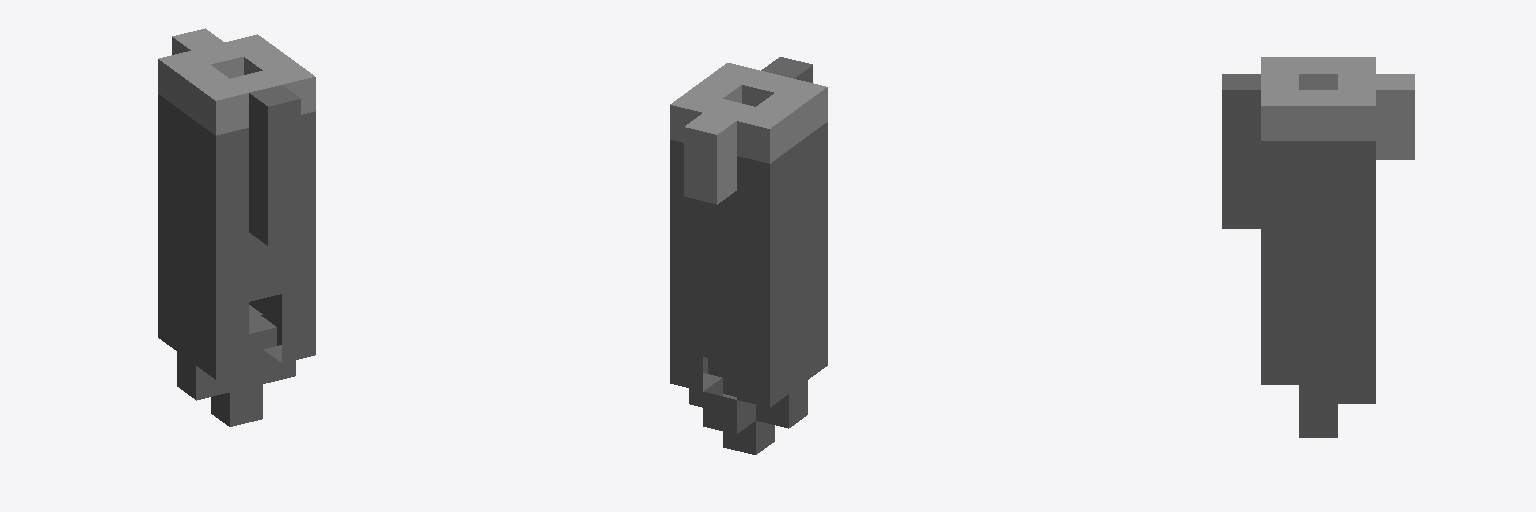
The picture shows the model from 3 angles: view 1: azimuth 30°, elevation 25°; view 2: azimuth 150°, elevation 25°; view 3: azimuth 270°, elevation 25°; orthographic projection.
Visible parts, largest first — view 1: object 1; view 2: object 1; view 3: object 1.
Boxes of the visible parts, x1=… form: object 1: x1=158, y1=28, x2=315, y2=426; object 1: x1=670, y1=57, x2=827, y2=454; object 1: x1=1222, y1=57, x2=1414, y2=437.
Bounding box in the file's own units: 0.3 × 1 × 0.7.
1 materials, 1 textured.